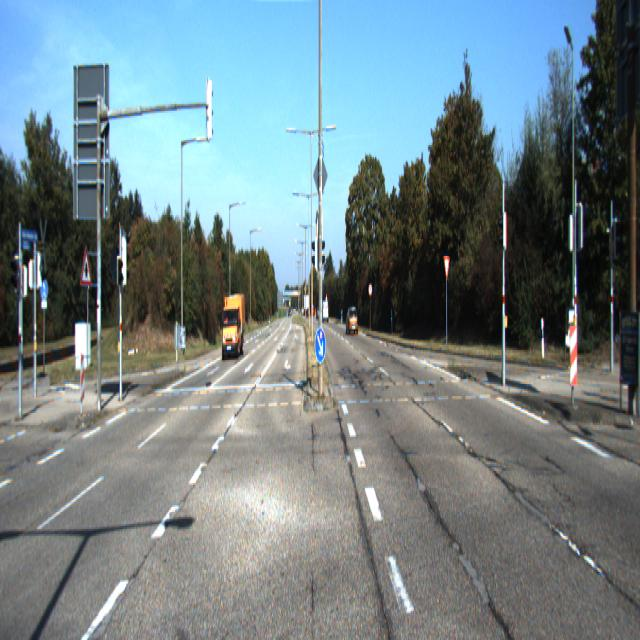Car: (347, 306, 357, 335)
DontCare: (310, 302, 328, 324)
Van: (217, 292, 245, 362)
